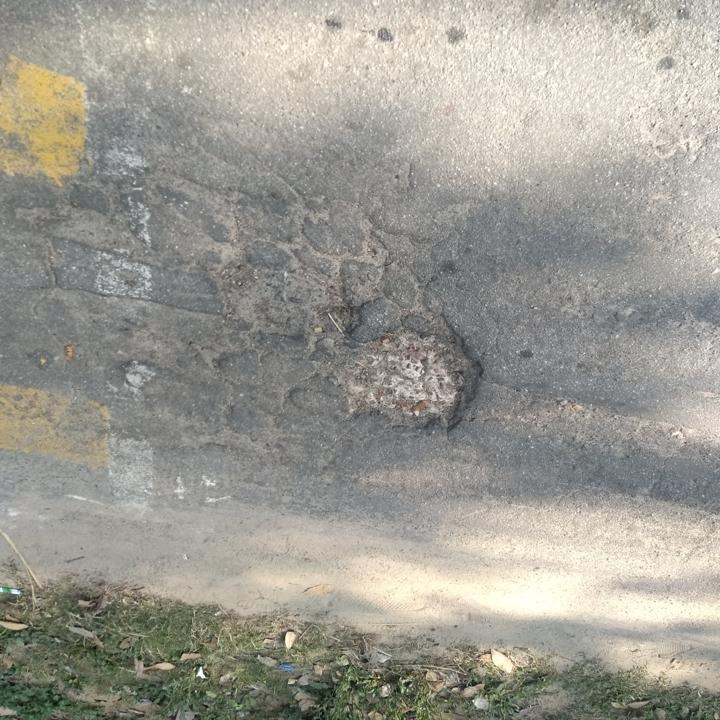pothole: (325, 325, 491, 439), (206, 255, 364, 342)
